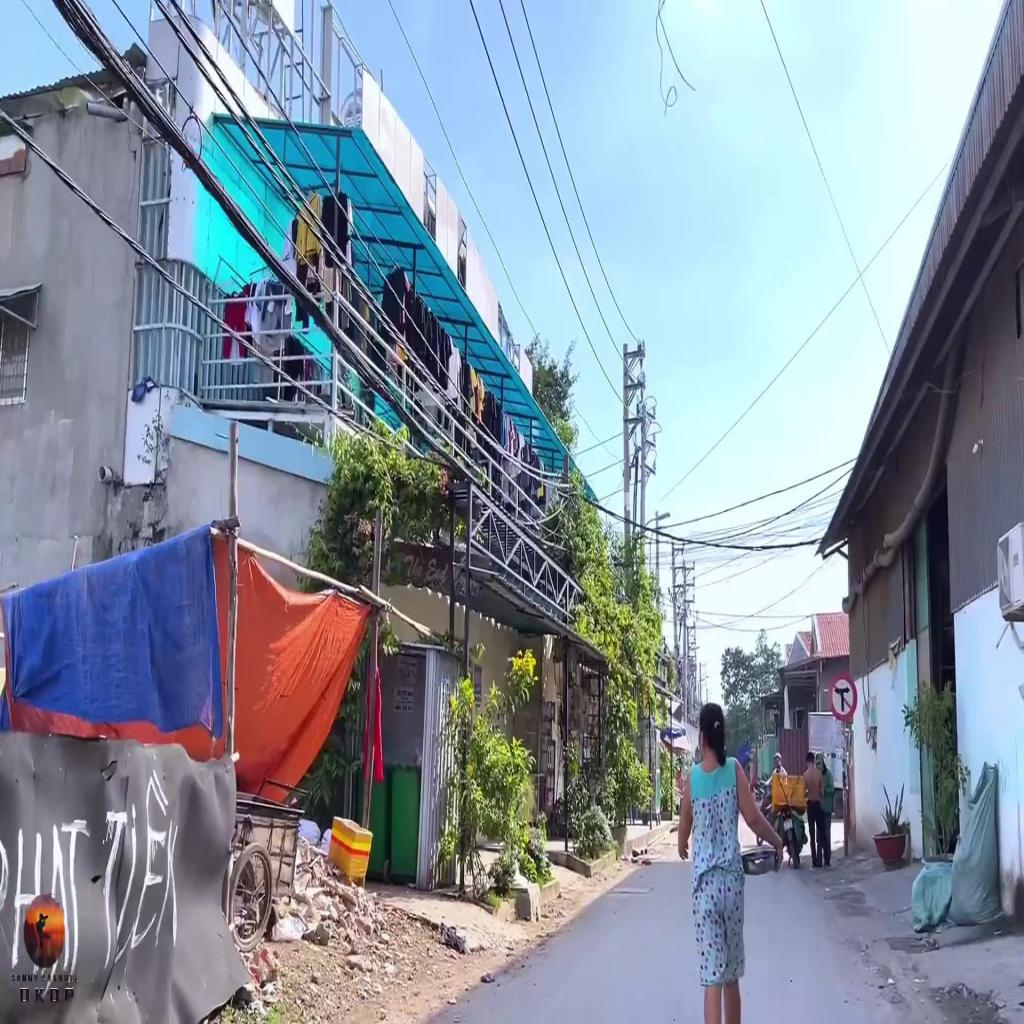cam_re_trai_va_phai: (830, 672, 858, 721)
